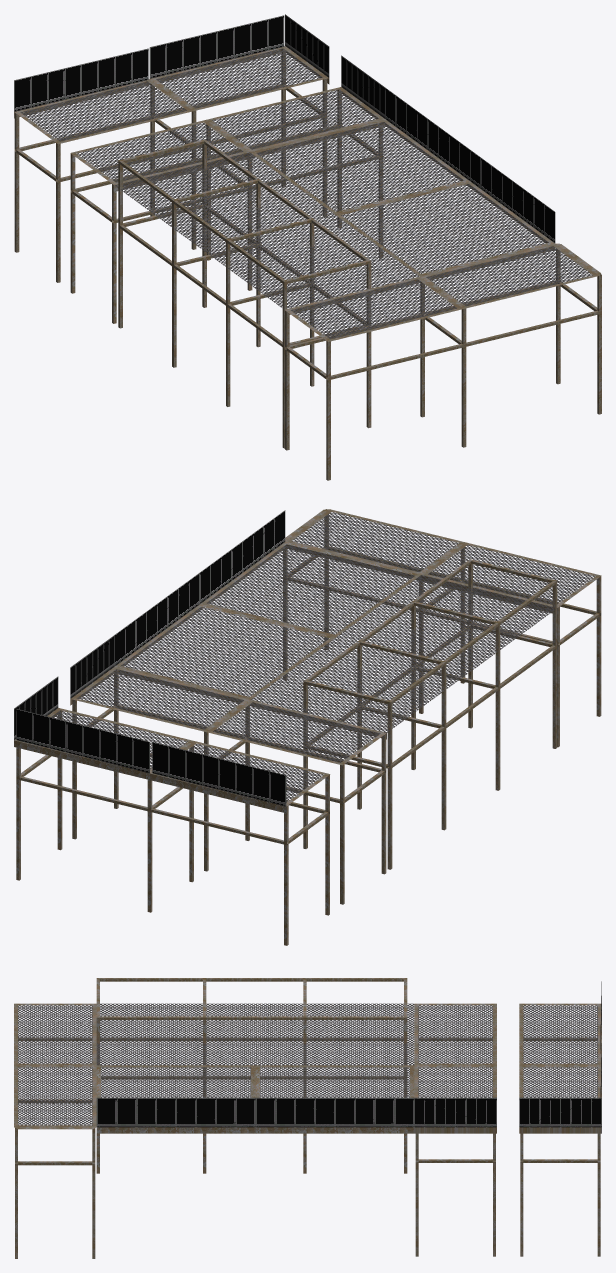
File: crackfactwalk.obj
3 renders of one model, top to bottom at view 1: azimuth 30°, elevation 25°; view 2: azimuth 150°, elevation 25°; view 3: azimuth 270°, elevation 25°, orthographic. The views are drawn at different scales.
Visible parts, largest first — view 1: crackfactwalk; view 2: crackfactwalk; view 3: crackfactwalk.
Part boxes in pixels (x1,y1,x2,y2): crackfactwalk: (14, 14, 601, 480); crackfactwalk: (14, 509, 601, 945); crackfactwalk: (14, 978, 601, 1258).
Bounding box in the file's own units: 8.69 × 5.15 × 17.2.
Materials: 3 (3 with a texture image).
